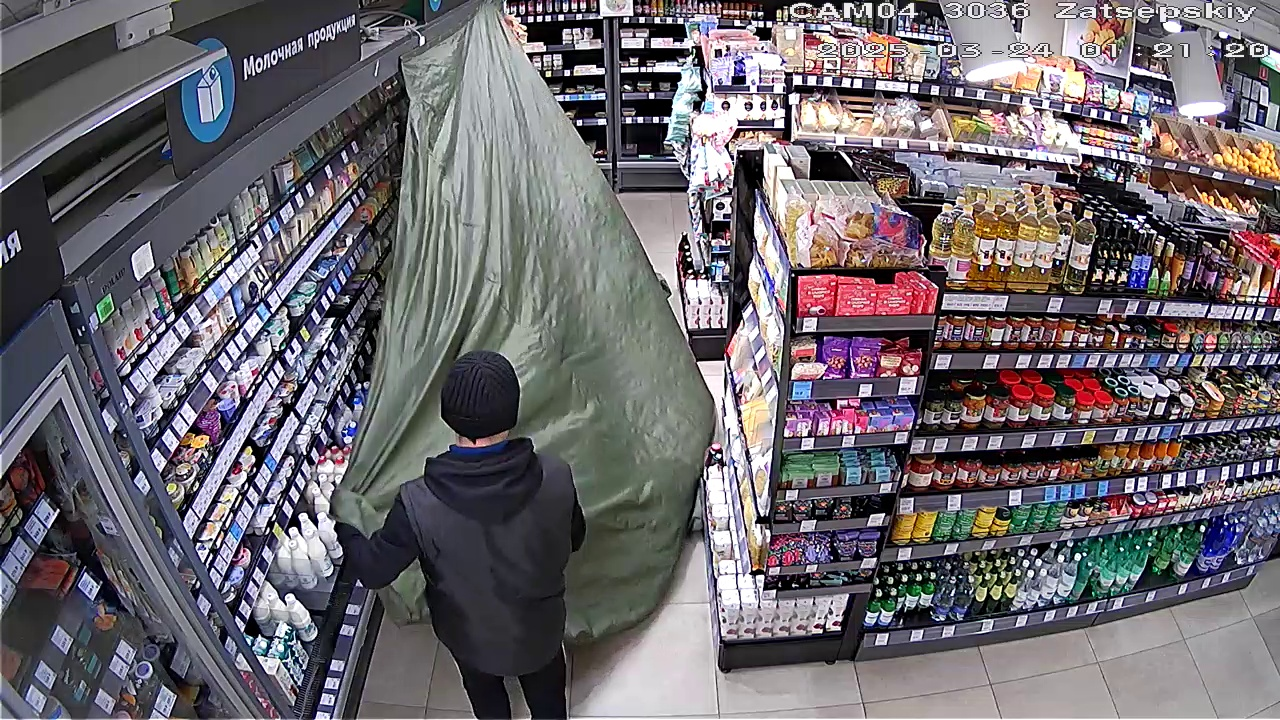Human: (345, 28, 716, 646), (348, 345, 568, 711)
